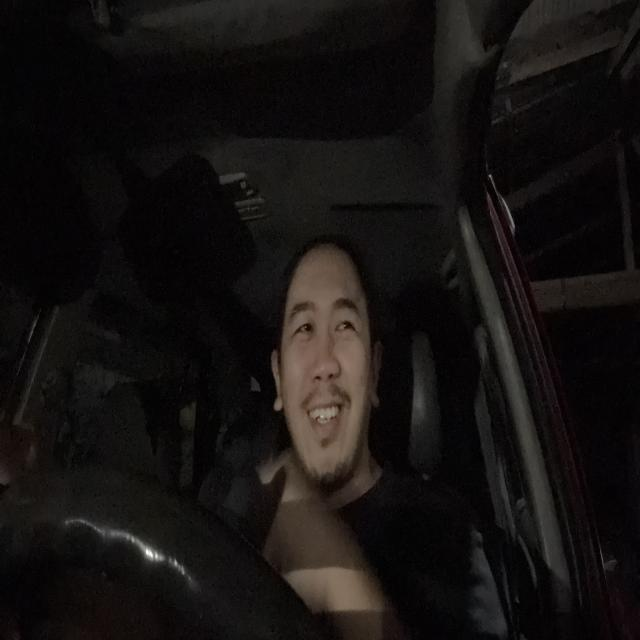open: (286, 297, 317, 350), (330, 296, 361, 343)
